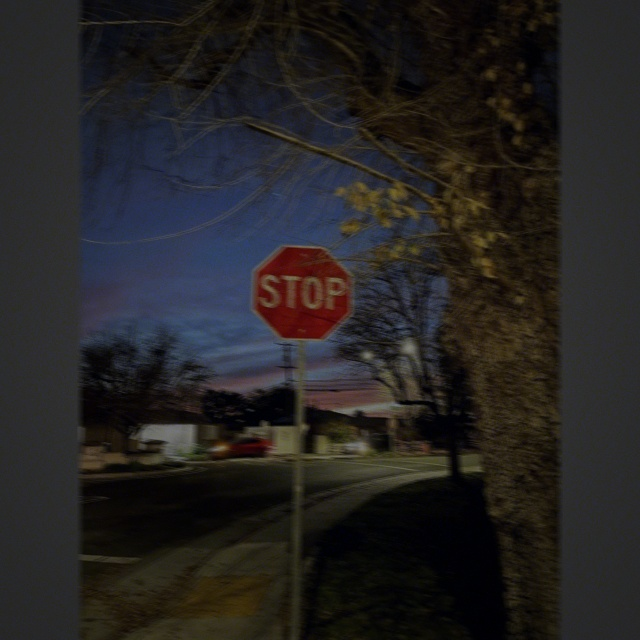Stop: (252, 246, 352, 343)
